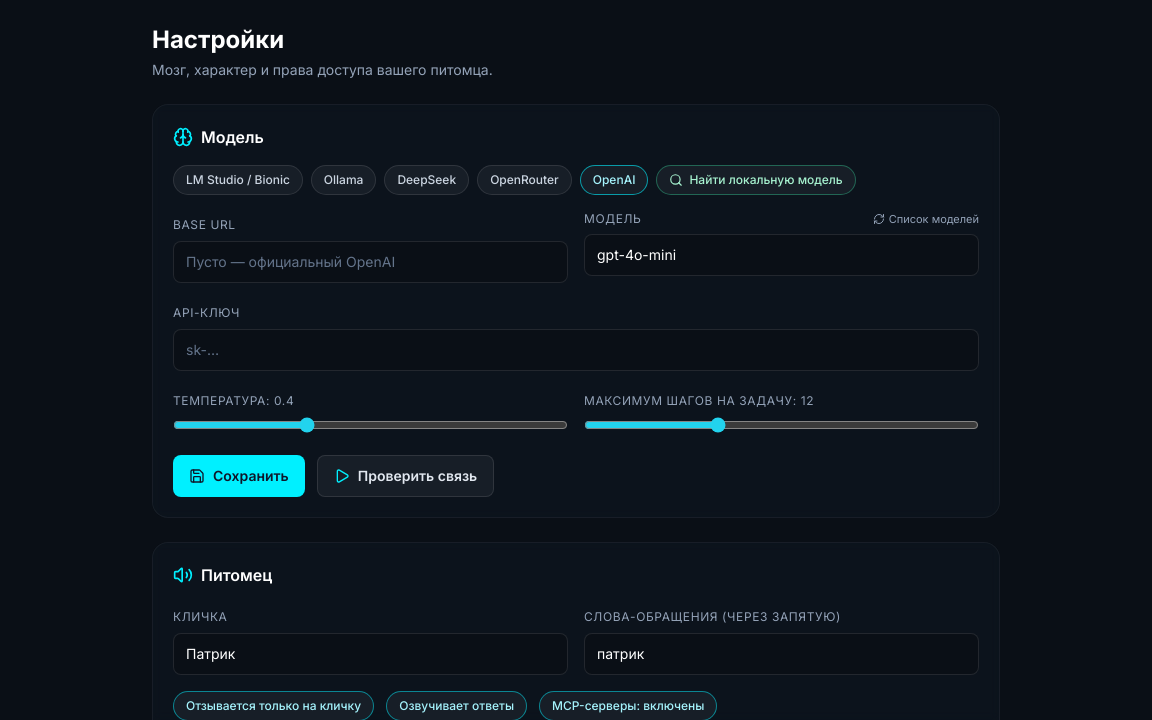
Scenario: Настройки: подключение локальной модели › пресет LM Studio подтягивает список моделей сервера
Expected: the field with placeholder "Пусто — официальный OpenAI" is shown, [173,241,568,283]
Click the button "LM Studio / Bionic".
click(238, 180)  # box [173,165,303,195]
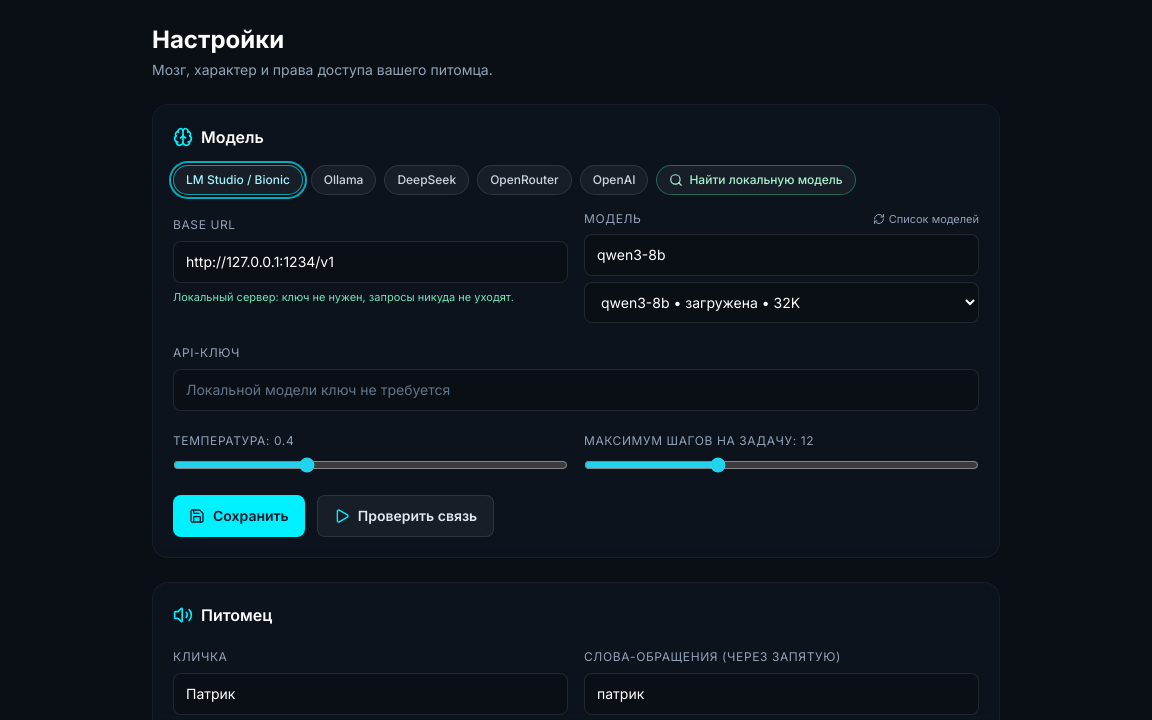
Result: the field named "Модель" holds "qwen3-8b" at [584,234,979,276]
Result: the password field with placeholder "Локальной модели ключ не требуется" is shown at [173,368,979,410]
